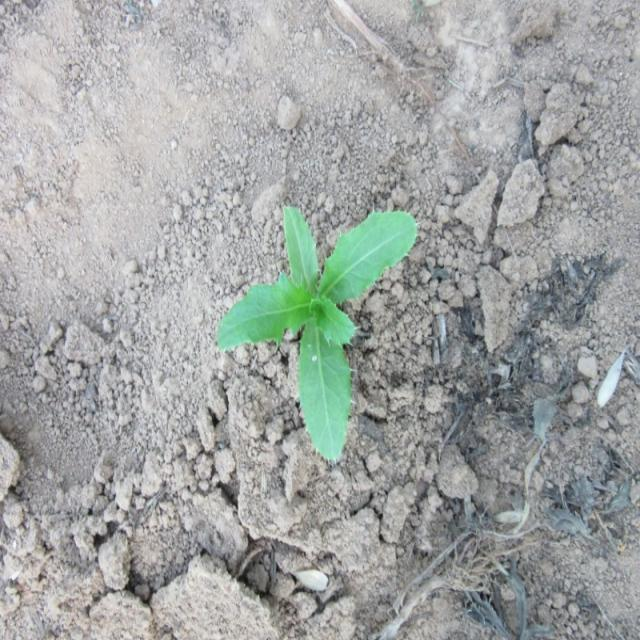cs: (218, 202, 420, 468)
